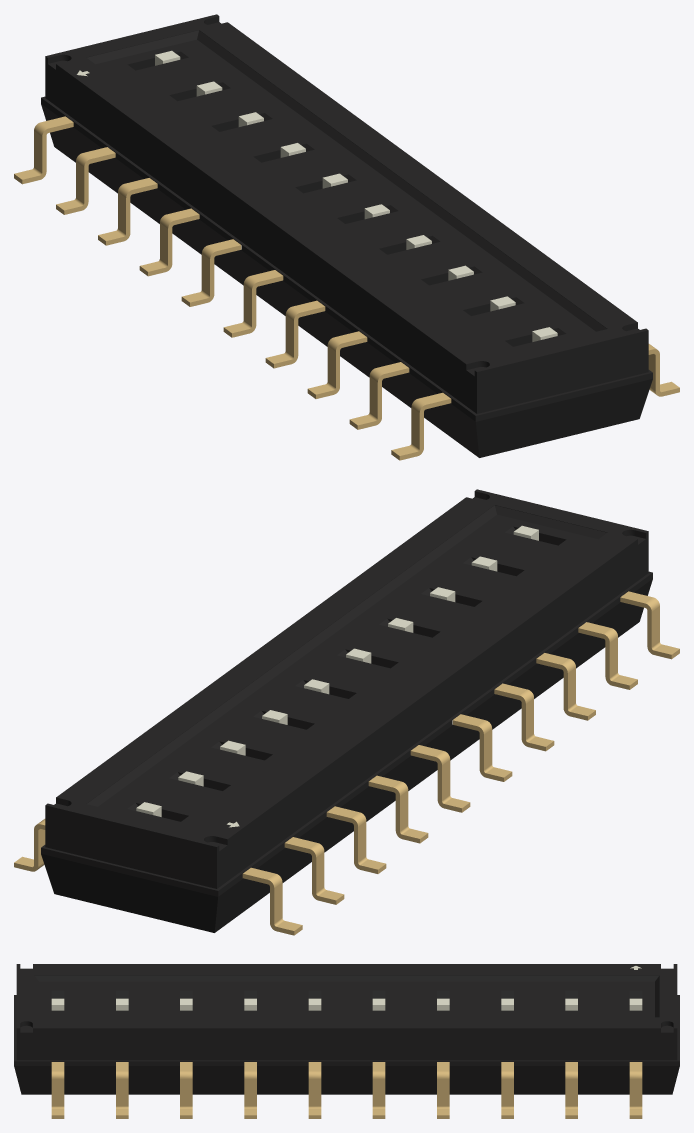
Rendered from kc-sw_dip_spstx10_slide_omron_a6s-1010x_w8.9mm_p2.54mm.glb.
3 views of the same model, one above another, from view 1: azimuth 30°, elevation 25°; view 2: azimuth 150°, elevation 25°; view 3: azimuth 270°, elevation 25° (orthographic). The views are drawn at different scales.
Visible parts, largest first — view 1: 0_0_0_0, 0.75_0.5_0.25_0.9, 0.75_0.75_0.6666666666666666_0; view 2: 0_0_0_0, 0.75_0.5_0.25_0.9, 0.75_0.75_0.6666666666666666_0; view 3: 0_0_0_0, 0.75_0.5_0.25_0.9, 0.75_0.75_0.6666666666666666_0.
Boxes of the visible parts, x1,y1,x2,y2 form: 0_0_0_0: (41,14,652,457); 0.75_0.5_0.25_0.9: (14,116,679,460); 0.75_0.75_0.6666666666666666_0: (77,50,557,341); 0_0_0_0: (41,489,652,932); 0.75_0.5_0.25_0.9: (14,591,679,935); 0.75_0.75_0.6666666666666666_0: (136,525,538,827); 0_0_0_0: (14,964,679,1094); 0.75_0.5_0.25_0.9: (51,1062,642,1118); 0.75_0.75_0.6666666666666666_0: (51,966,642,1010).
Bounding box in the file's own units: 0.9799 × 0.3076 × 2.63.
